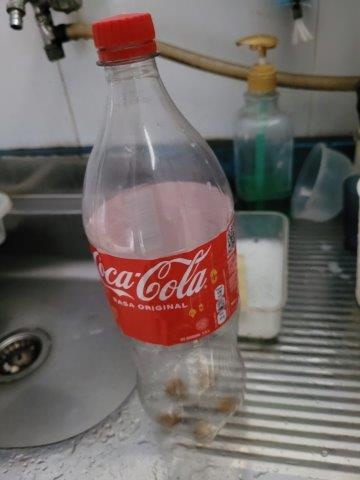botolplastik: (81, 16, 248, 438)
